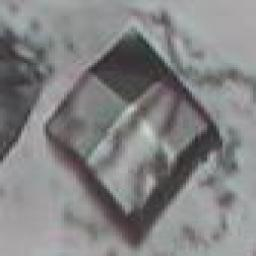crystals: (39, 23, 228, 248)
